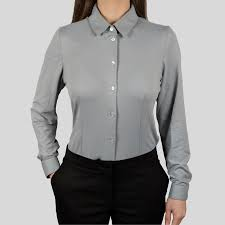F_W_pants: (50, 146, 170, 225)
F_shirt: (28, 8, 206, 198)
